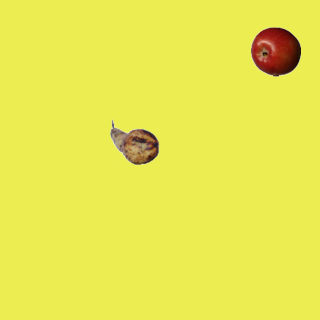Apple Braeburn: (250, 26, 300, 76)
Pear Abate: (109, 117, 159, 167)
